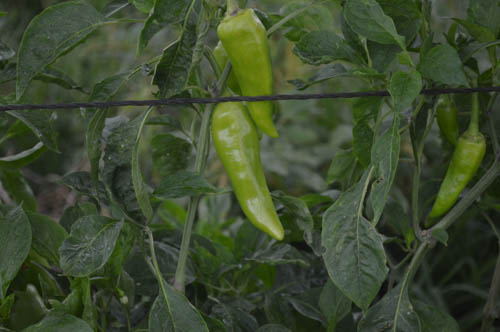ChiliPepper: (212, 104, 283, 241), (222, 13, 280, 136), (426, 138, 485, 215), (432, 102, 457, 143)
